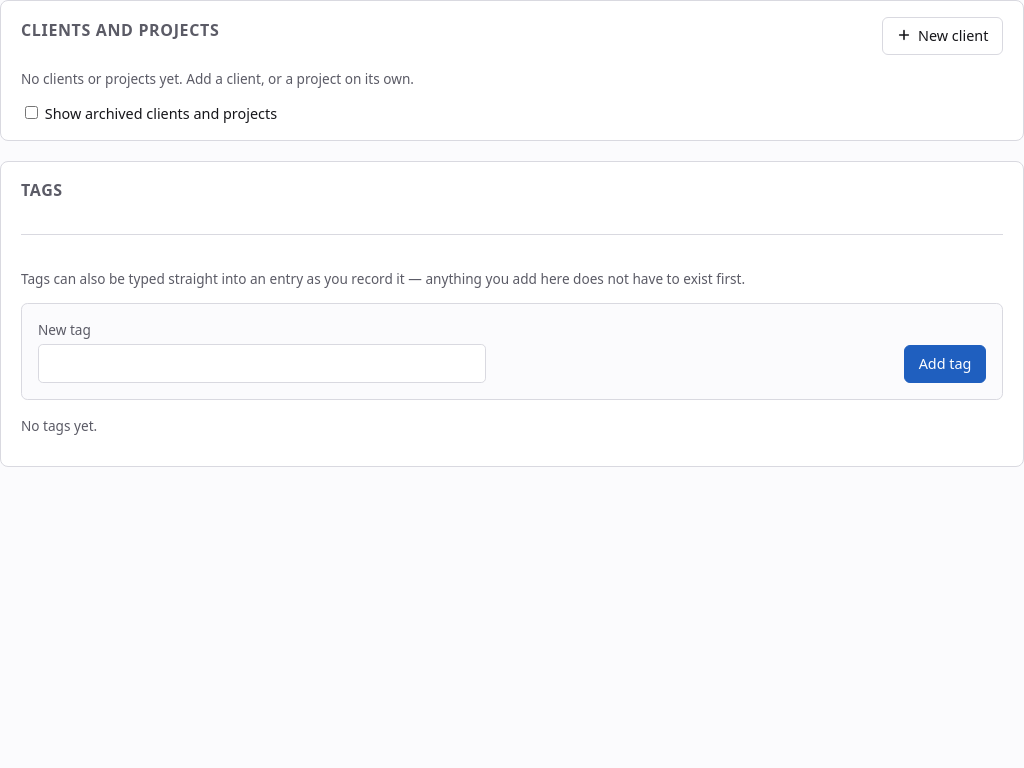
Test: a new client starts at the app default currency (item 31) › falls back to the chain’s last link when no default has been set
The width and height of the screenshot is (1024, 768).
Click the button with test id "new-client". click: (942, 36)
box: [882,17,1003,55]
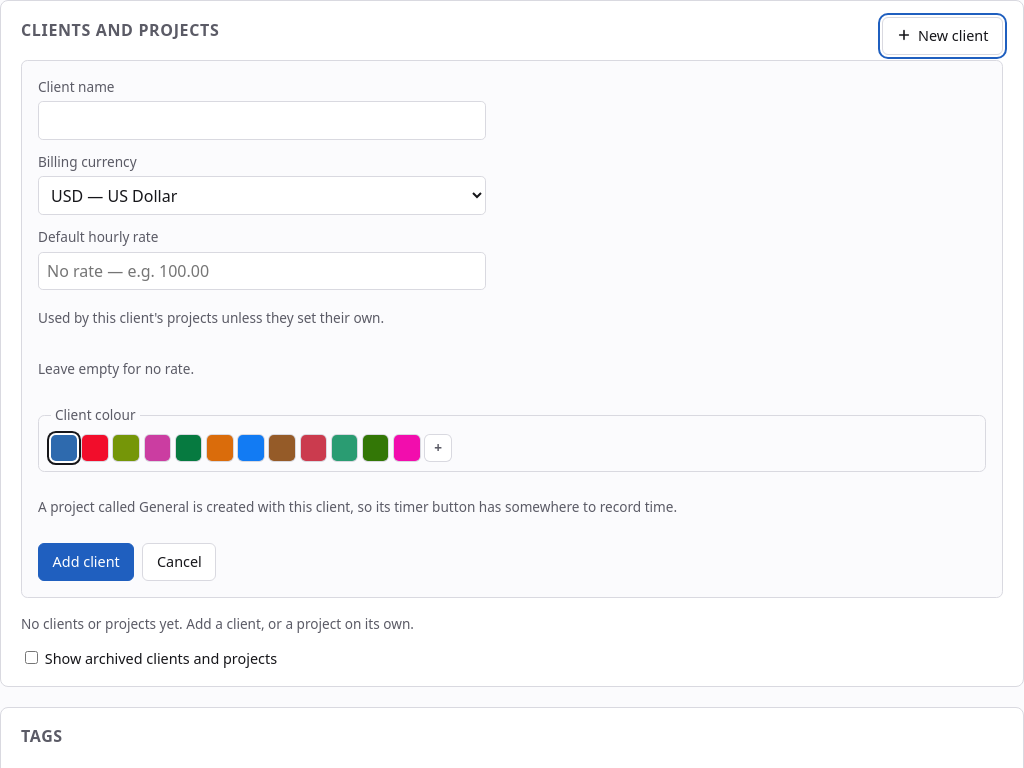
Expected: the dropdown labelled "Billing currency" shows "USD — US Dollar", [38,176,486,215]
